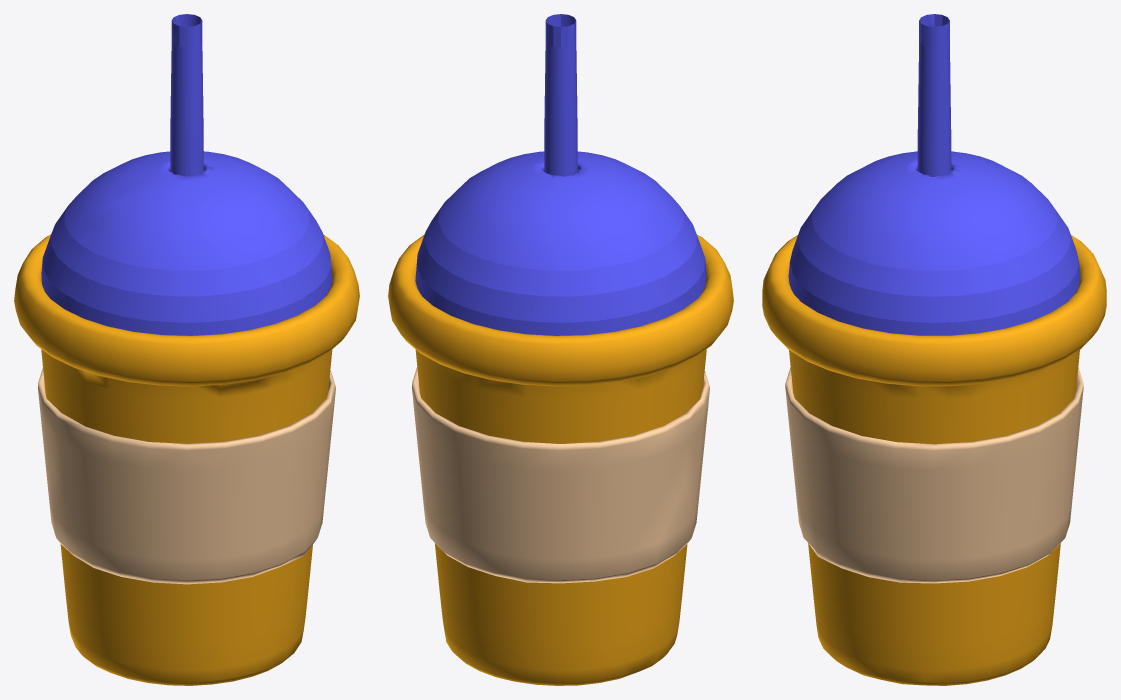
File: ToyObject_016.fbx
3 renders of one model, left to right at view 1: azimuth 30°, elevation 25°; view 2: azimuth 150°, elevation 25°; view 3: azimuth 270°, elevation 25°, orthographic.
Visible parts, largest first — view 1: 1.045; view 2: 1.045; view 3: 1.045.
Part boxes in pixels (x1,y1,x2,y2): 1.045: [14, 14, 359, 685]; 1.045: [388, 14, 733, 685]; 1.045: [762, 14, 1106, 685].
Size of the model in its own units: 0.1317 by 0.2617 by 0.1317.
